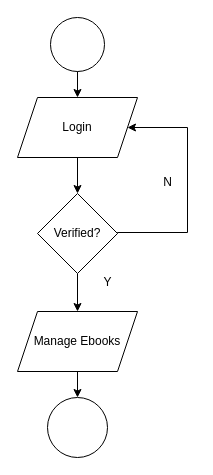
Some shapes in this 213 by 475 pixel diagram are drawn without their labels. The shapes that lost their labels are listed below. From the top down, each one's box as (x1, y1, x2, y2) in pixels, then its label:
(50, 16, 104, 72): Start
(46, 396, 108, 458): End
